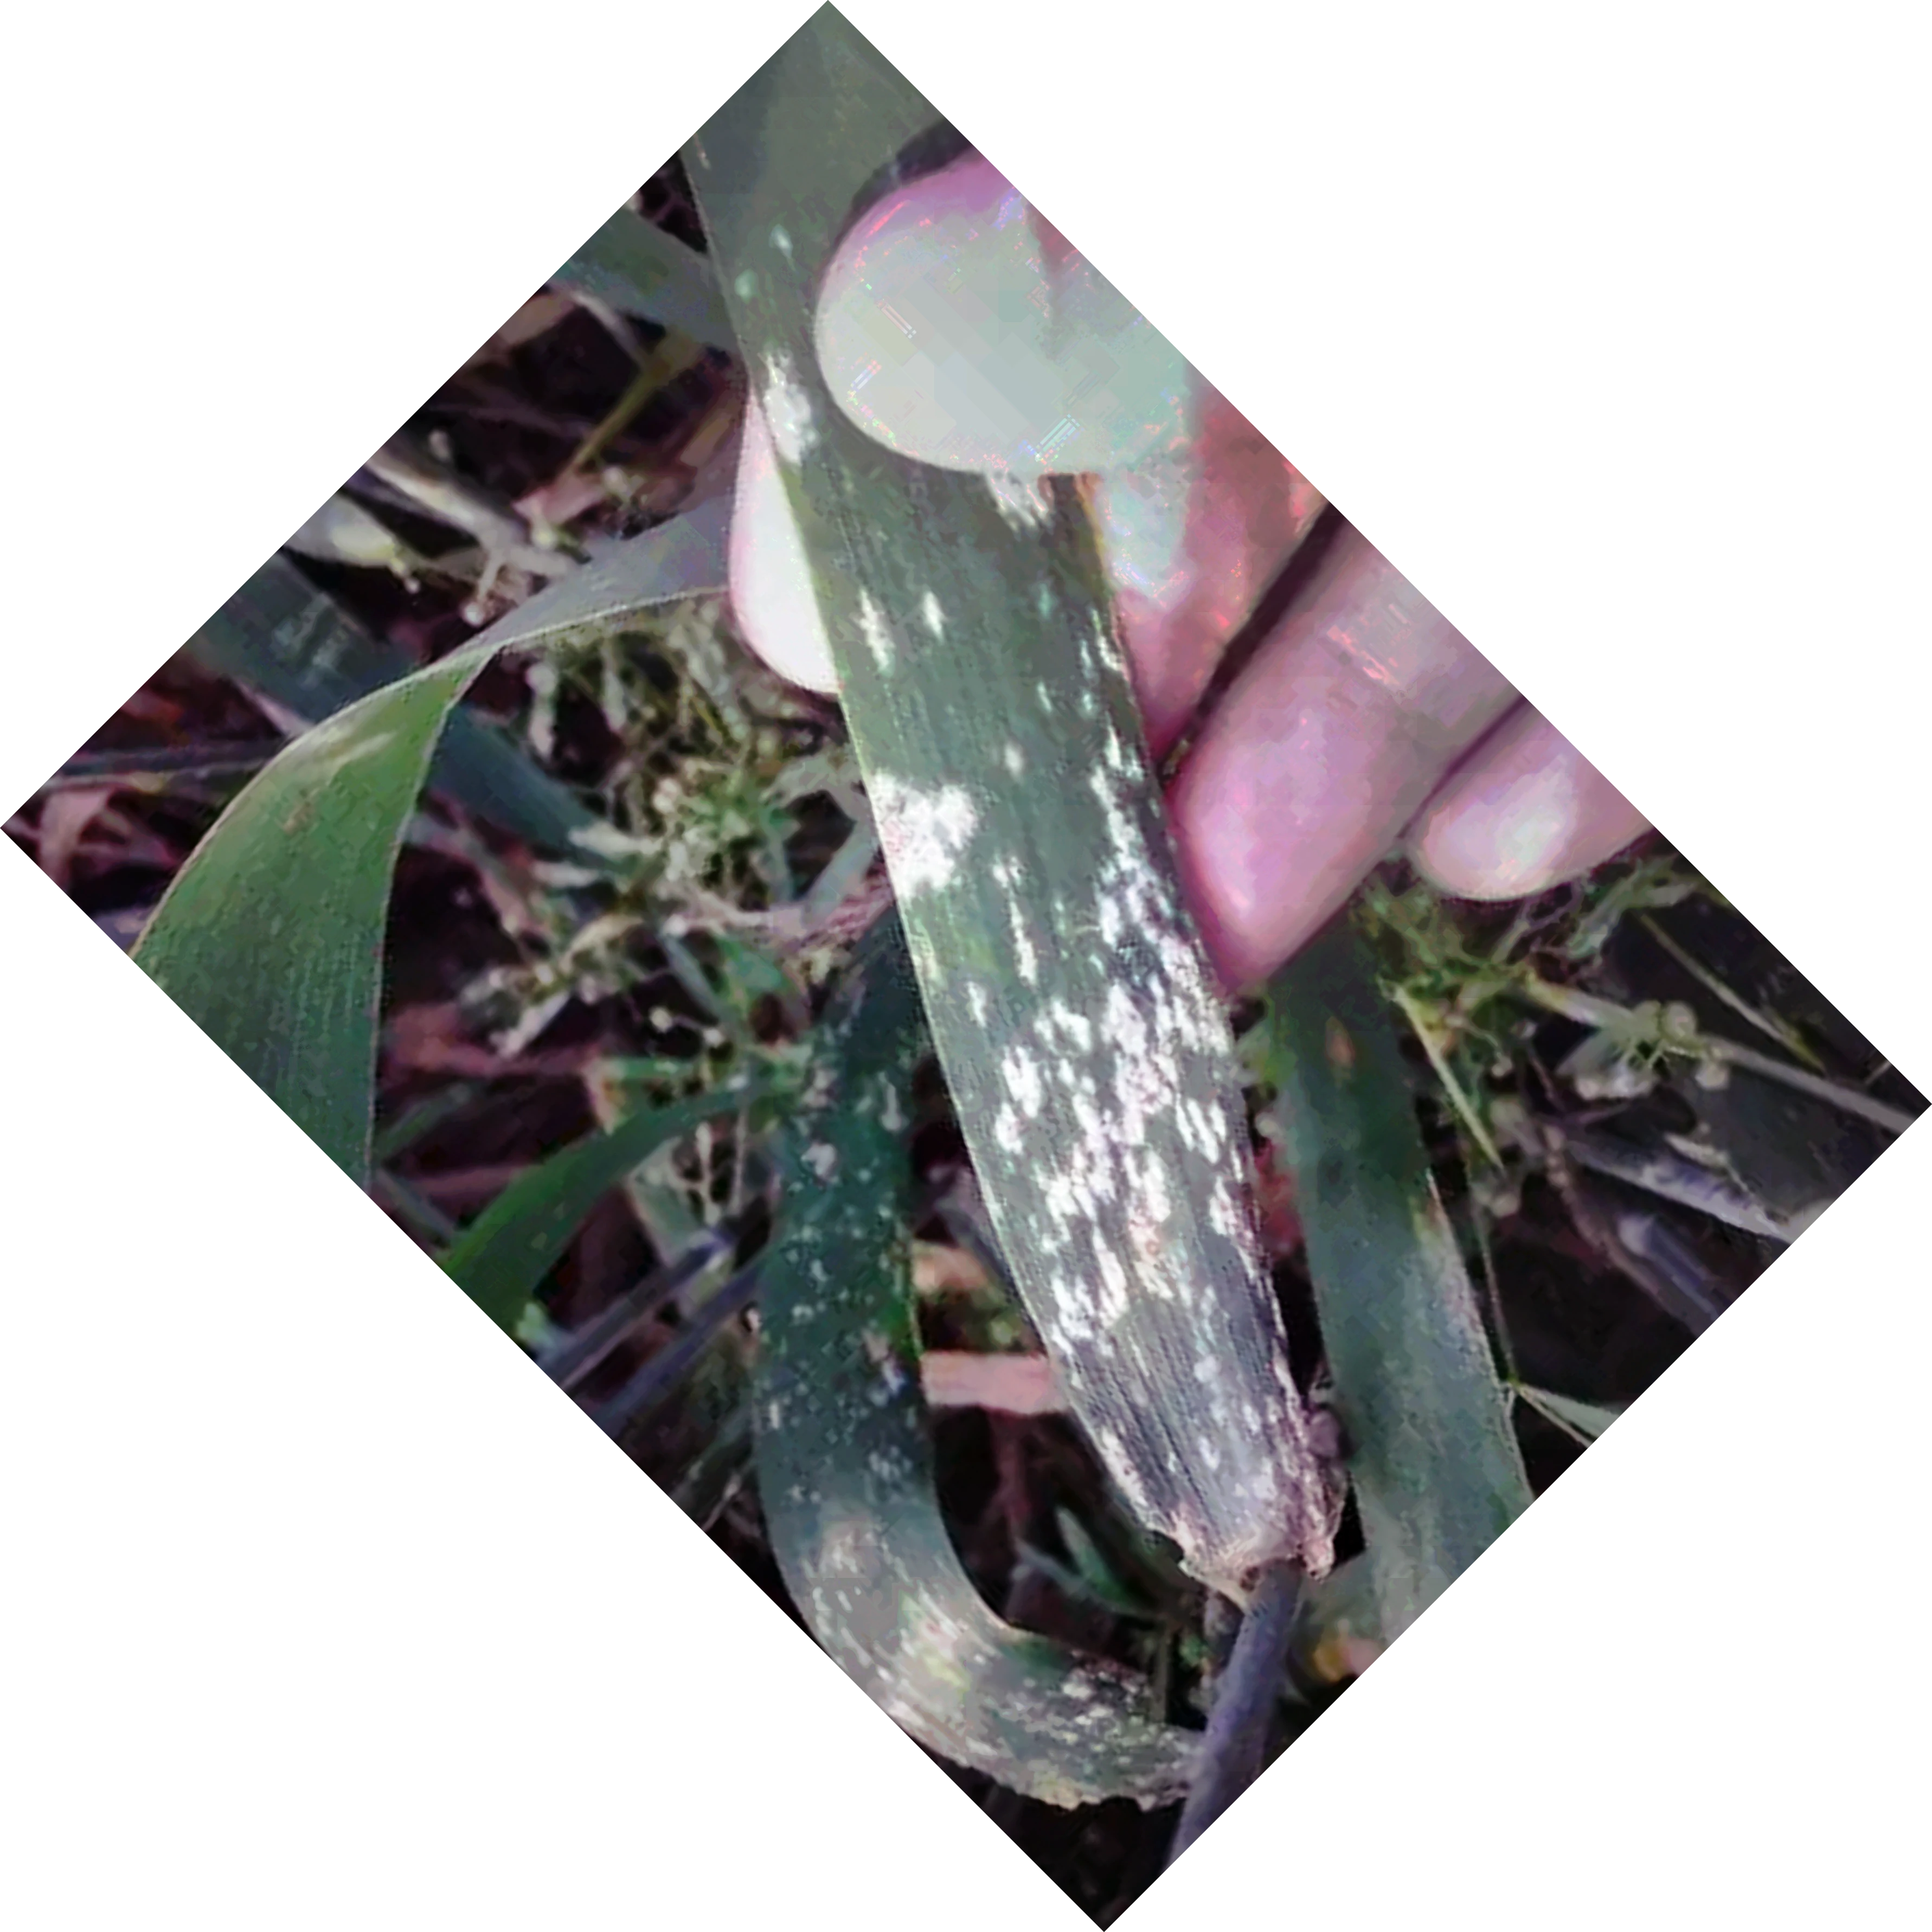Powdery Mildew: (862, 621, 1332, 1486)
